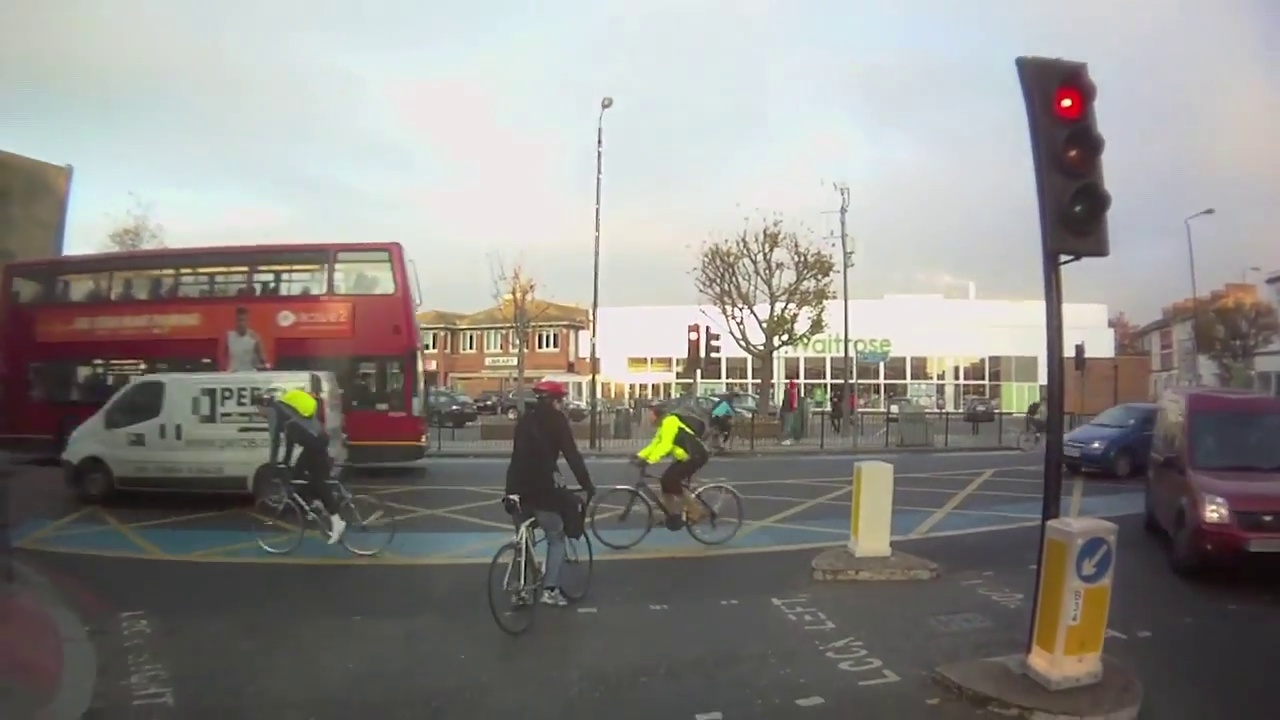cyclist_back: (486, 367, 598, 637)
cyclist_side: (245, 389, 397, 560), (589, 399, 747, 549)
